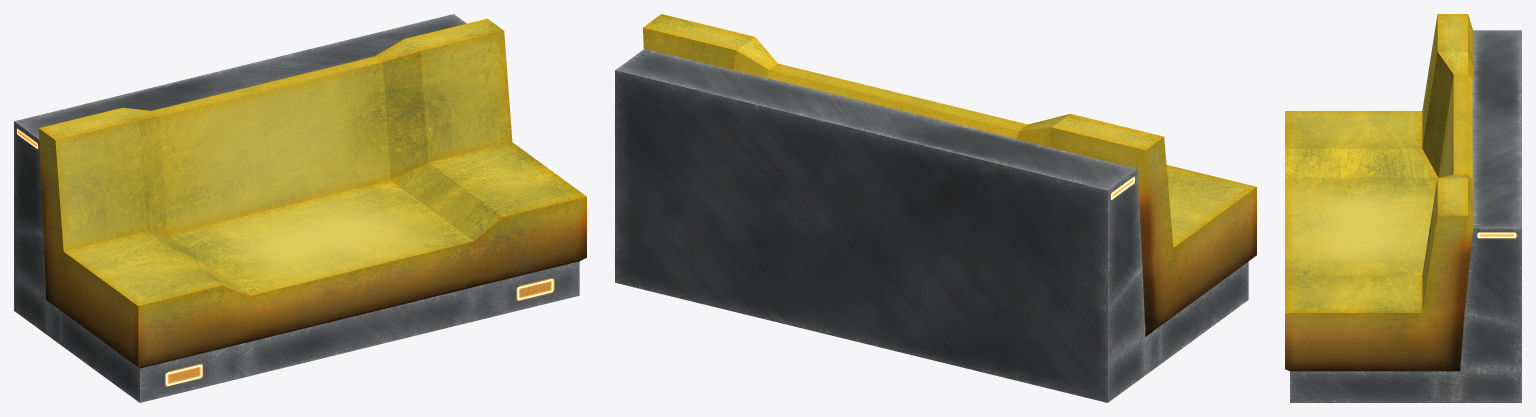
The model's file is low_poly_bebop_couch.glb.
The picture shows the model from 3 angles, left to right: view 1: azimuth 30°, elevation 25°; view 2: azimuth 150°, elevation 25°; view 3: azimuth 270°, elevation 25°; orthographic projection. The views are drawn at different scales.
Visible parts, largest first — view 1: Couch_LOW; view 2: Couch_LOW; view 3: Couch_LOW.
Part boxes in pixels (x1,y1,x2,y2): Couch_LOW: (14,14,586,402); Couch_LOW: (615,14,1256,402); Couch_LOW: (1285,14,1521,402).
Bounding box in the file's own units: 2.34 × 1.02 × 1.16.
1 material, 1 textured.
